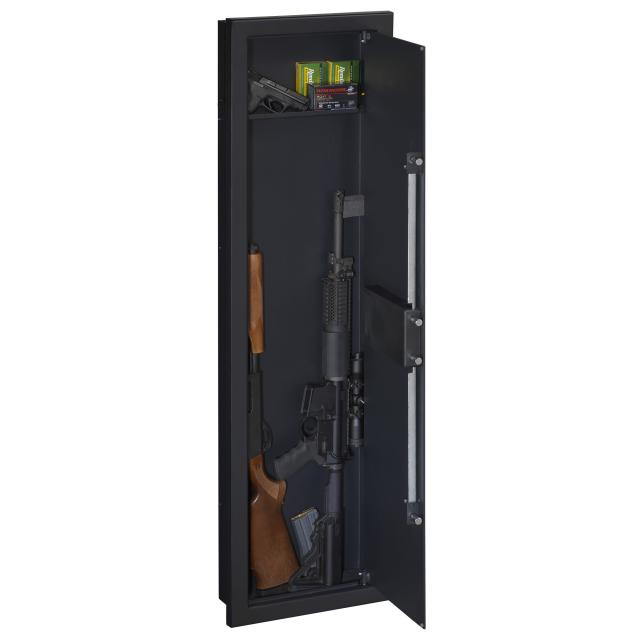Rifle: (278, 219, 353, 586)
ShotGun: (248, 139, 298, 592)
